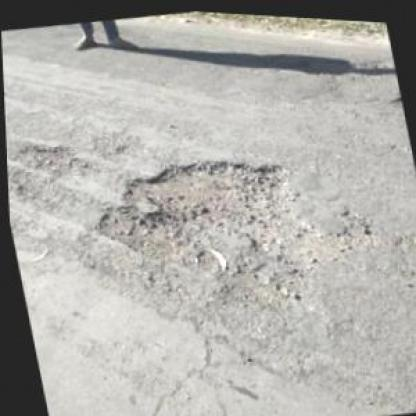pothole: (77, 121, 392, 338), (13, 133, 80, 182)
